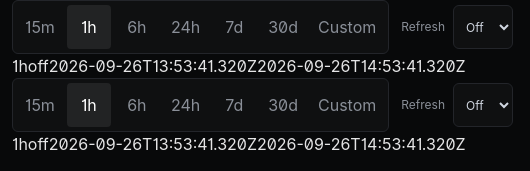
Scenario: admin time range preferences › updates mounted sessions when another admin component changes preferences
Click the 1st button "24h". click: click(186, 27)
box: left=163, top=5, right=208, bottom=49
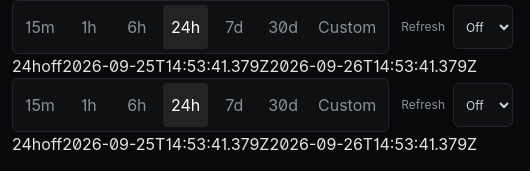
Expected: the number of elements with test id "range" is 2, left=12, top=56, right=41, bottom=76; left=12, top=134, right=41, bottom=154
Expected: the 2nd text with test id "range" reads "24h", left=12, top=134, right=41, bottom=154
